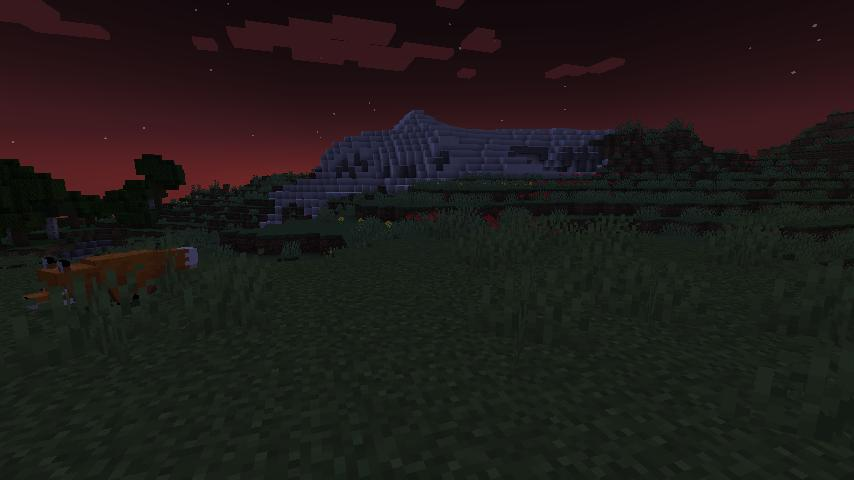fox: (20, 242, 203, 334)
